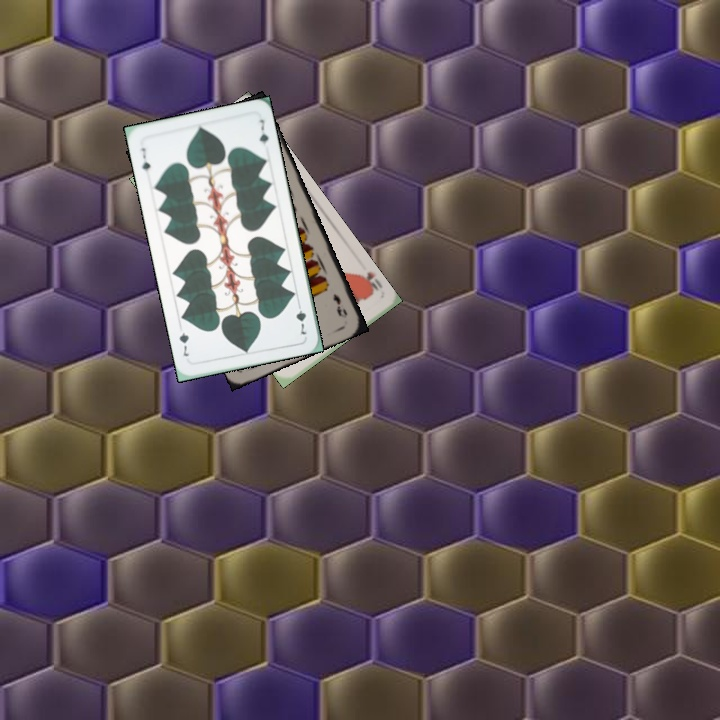E9: (329, 289, 350, 321)
G7: (292, 298, 309, 337), (137, 144, 153, 174)
HO: (354, 267, 385, 297)
